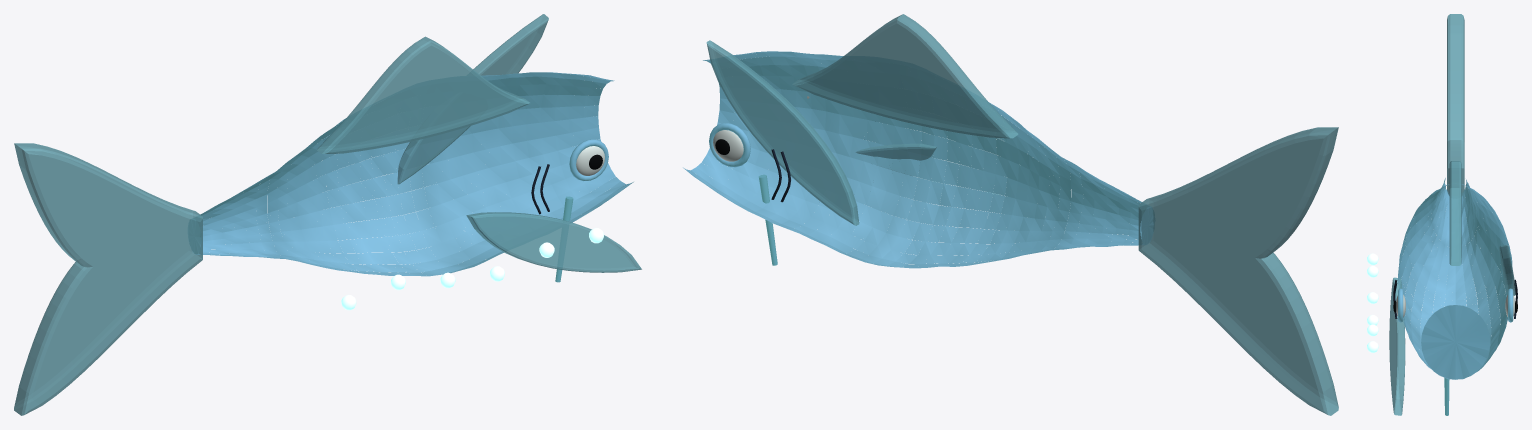
The model's file is lantern-cod.glb.
The picture shows the model from 3 angles, left to right: view 1: azimuth 30°, elevation 25°; view 2: azimuth 150°, elevation 25°; view 3: azimuth 270°, elevation 25°; orthographic projection. The views are drawn at different scales.
Visible parts, largest first — view 1: body, tail_fin, dorsal_fin, pectoral_fin (×2), eye_socket; view 2: body, tail_fin, dorsal_fin, pectoral_fin (×2), eye_socket, eye; view 3: body, tail_fin, pectoral_fin (×2), dorsal_fin, eye_socket (×2), chin_barbel.
Boxes of the visible parts, box(x1,y1,x2,y2) form: body: box(189, 72, 633, 276); tail_fin: box(14, 143, 202, 415); dorsal_fin: box(317, 36, 529, 153); pectoral_fin (×2): box(397, 14, 641, 272); eye_socket: box(569, 139, 608, 181); body: box(683, 51, 1153, 268); tail_fin: box(1138, 127, 1338, 415); dorsal_fin: box(792, 14, 1018, 138); pectoral_fin (×2): box(706, 40, 936, 225); eye_socket: box(709, 123, 750, 167); eye: box(713, 130, 743, 161); body: box(1398, 178, 1512, 379); tail_fin: box(1447, 14, 1464, 195); pectoral_fin (×2): box(1389, 245, 1515, 415); dorsal_fin: box(1449, 161, 1461, 265); eye_socket (×2): box(1398, 288, 1513, 322); chin_barbel: box(1444, 378, 1449, 415).
Bounding box in the file's own units: 3.1 × 1.35 × 0.8744.
